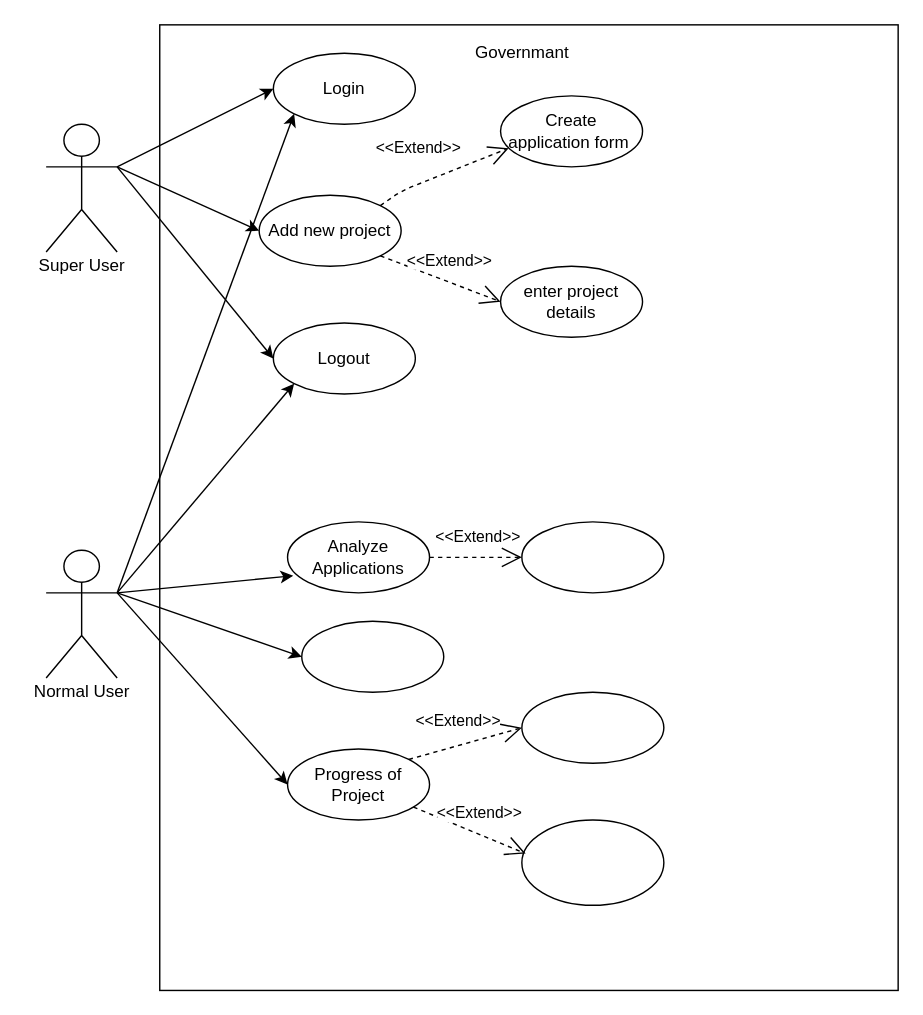
Image size: 923x1015. Some labels were removed from this diagram. The centre of each missing label's shape, as x and y in pixels:
"Approve or Decline Application" goes at (x=372, y=656).
"Document analysis" goes at (x=592, y=556).
"Show Project Progress" goes at (x=592, y=862).
"Update Project Progress" goes at (x=592, y=727).
